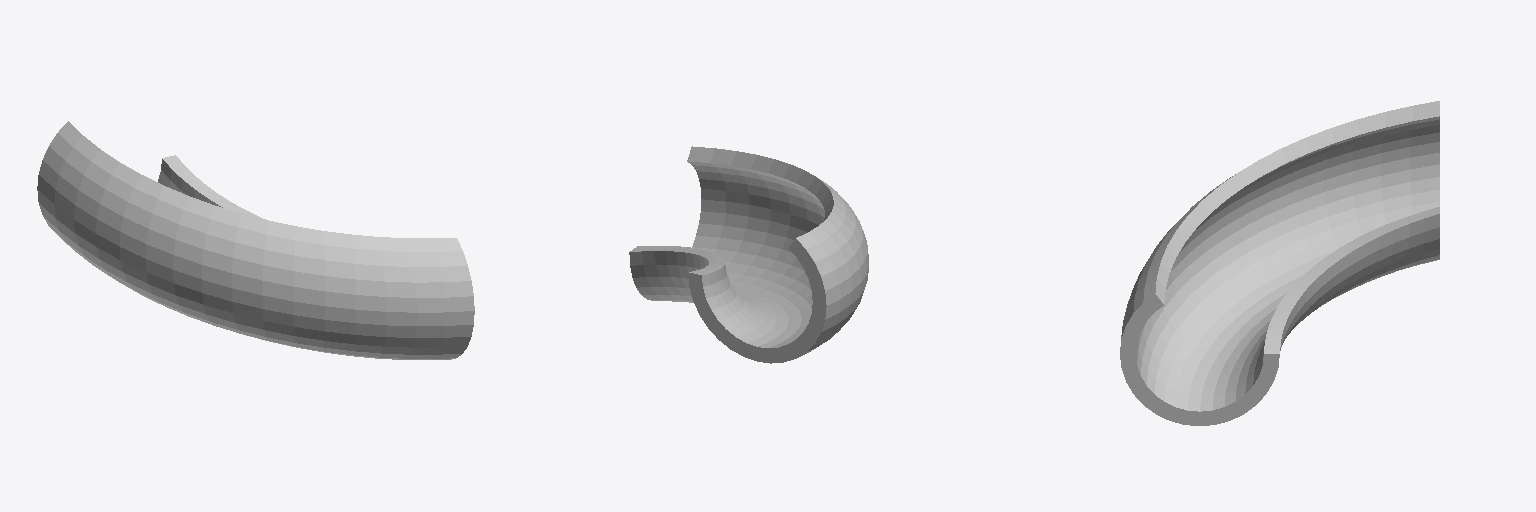
File: turn_left2.obj
The picture shows the model from 3 angles: view 1: azimuth 30°, elevation 25°; view 2: azimuth 150°, elevation 25°; view 3: azimuth 270°, elevation 25°; orthographic projection.
Visible parts, largest first — view 1: TurnLeft2_Circle.007; view 2: TurnLeft2_Circle.007; view 3: TurnLeft2_Circle.007.
Part boxes in pixels (x1,y1,x2,y2): TurnLeft2_Circle.007: (37,121,474,359); TurnLeft2_Circle.007: (629,146,868,363); TurnLeft2_Circle.007: (1120,101,1439,425).
Bounding box in the file's own units: 4 × 2.83 × 4.